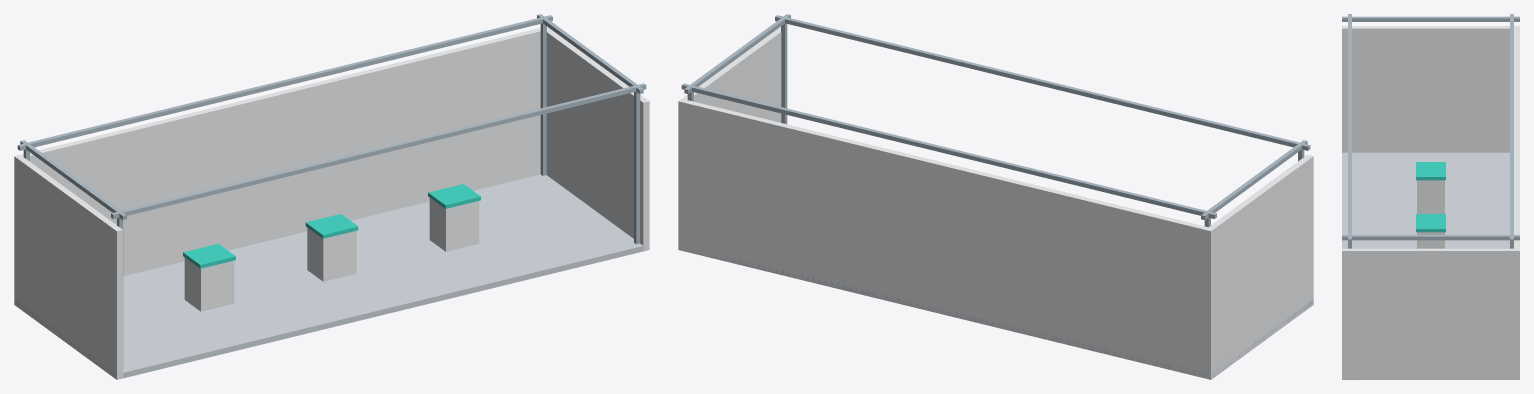
The picture shows the model from 3 angles, left to right: view 1: azimuth 30°, elevation 25°; view 2: azimuth 150°, elevation 25°; view 3: azimuth 270°, elevation 25°; orthographic projection. The views are drawn at different scales.
Parts seen in each view (by area): view 1: Exhibition Booth Concept; view 2: Exhibition Booth Concept; view 3: Exhibition Booth Concept.
Boxes of the visible parts, x1,y1,x2,y2 form: Exhibition Booth Concept: (14, 14, 649, 379); Exhibition Booth Concept: (678, 14, 1313, 379); Exhibition Booth Concept: (1342, 14, 1519, 379).
Size of the model in its own units: 12 by 3.49 by 4.
